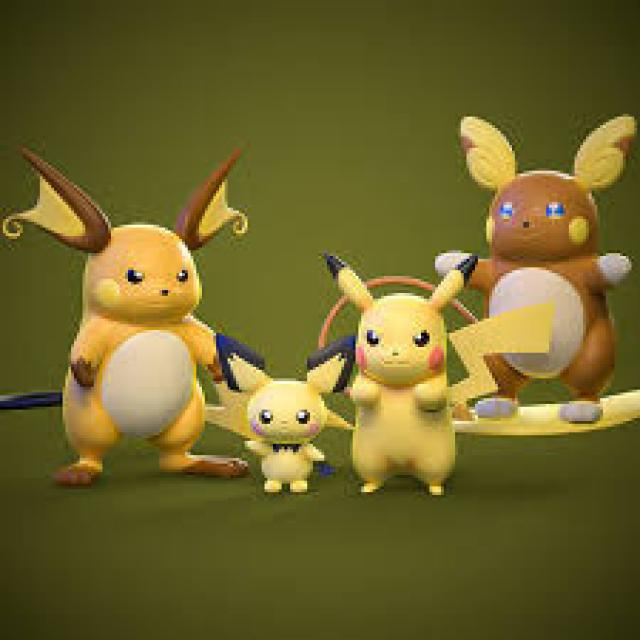pichu: (212, 331, 360, 514)
